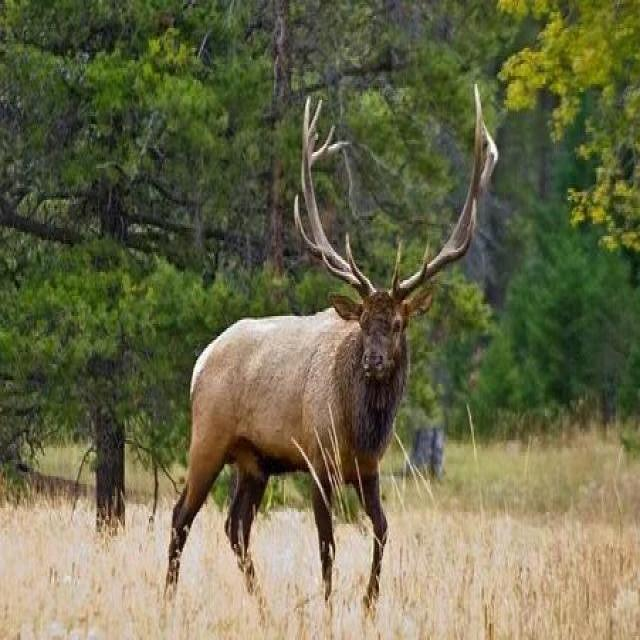deer: (156, 197, 472, 544)
